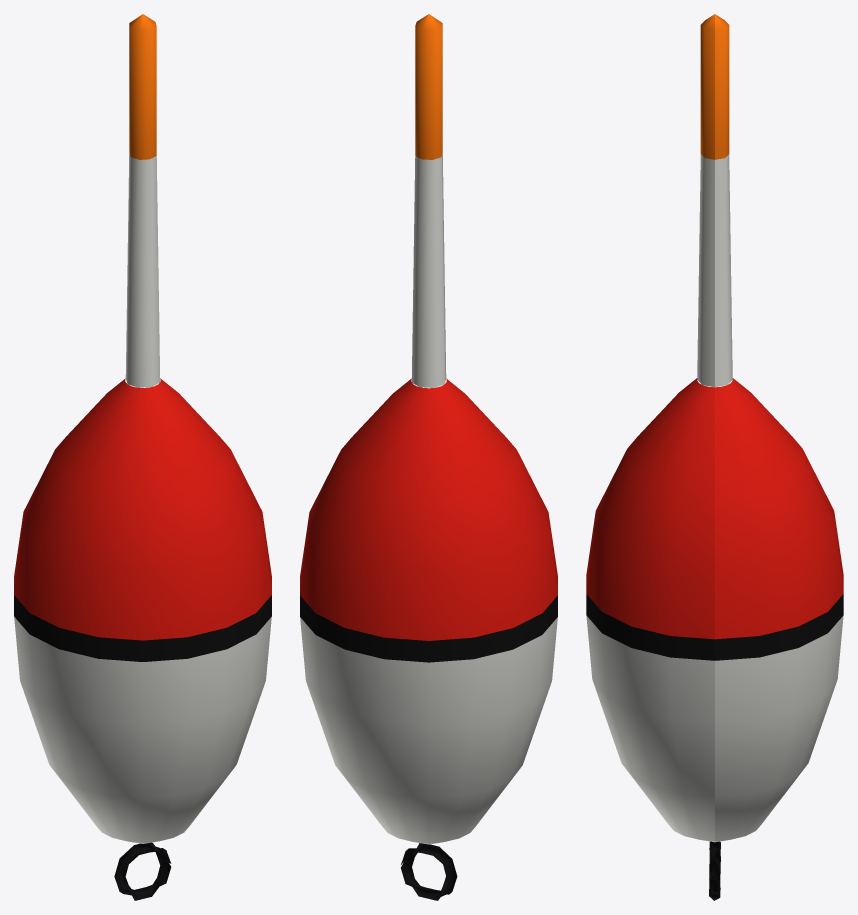
The model's file is fishing_float.gltf.
The picture shows the model from 3 angles, left to right: view 1: azimuth 30°, elevation 25°; view 2: azimuth 150°, elevation 25°; view 3: azimuth 270°, elevation 25°; orthographic projection.
Parts seen in each view (by area): view 1: fishing_float; view 2: fishing_float; view 3: fishing_float.
Boxes of the visible parts, x1,y1,x2,y2 form: fishing_float: (14,14,271,900); fishing_float: (300,14,557,900); fishing_float: (586,14,843,900).
Bounding box in the file's own units: 0.022 × 0.0821 × 0.0217.
